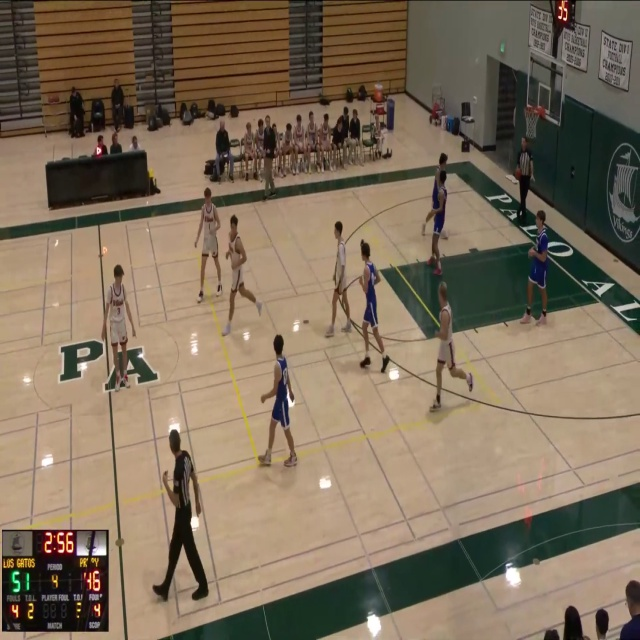Basketball: (514, 167, 521, 180)
